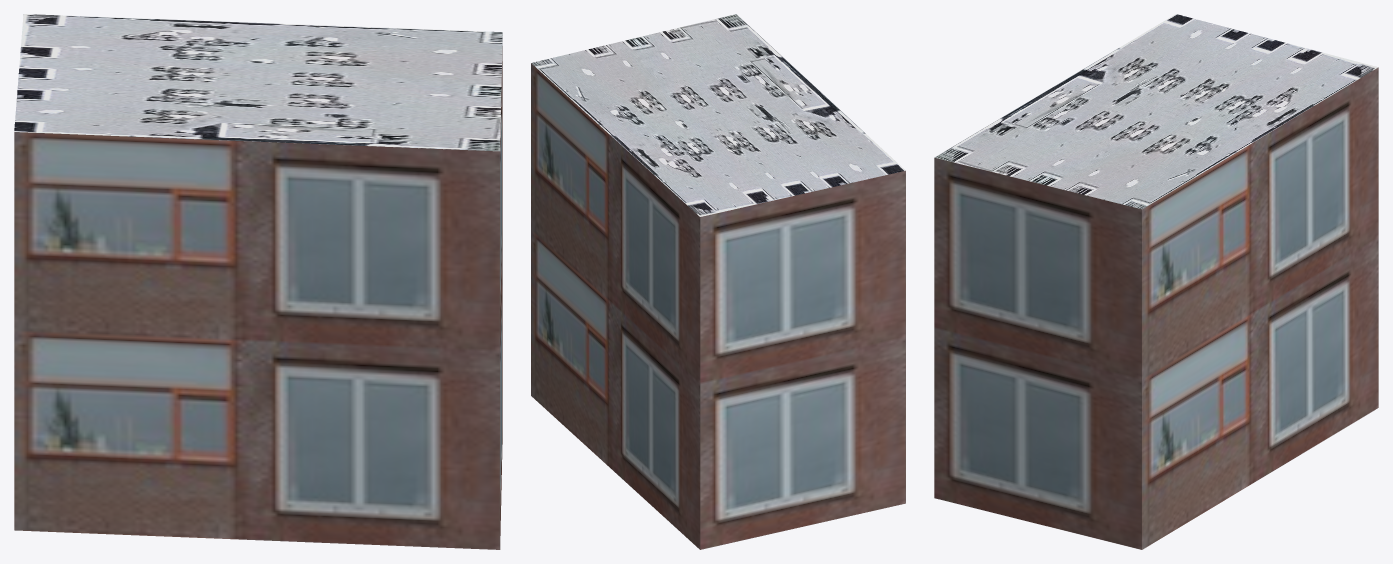
The model's file is ResTex__1047.fbx.
3 views of the same model, side by side, from view 1: azimuth 30°, elevation 25°; view 2: azimuth 150°, elevation 25°; view 3: azimuth 270°, elevation 25° (orthographic). The views are drawn at different scales.
Visible parts, largest first — view 1: CityEngineMaterial_19_m, CityEngineMaterial_8_m; view 2: CityEngineMaterial_19_m, CityEngineMaterial_8_m; view 3: CityEngineMaterial_19_m, CityEngineMaterial_8_m.
Boxes of the visible parts, x1,y1,x2,y2 form: CityEngineMaterial_19_m: (14, 46, 502, 549); CityEngineMaterial_8_m: (14, 14, 502, 151); CityEngineMaterial_19_m: (531, 63, 905, 549); CityEngineMaterial_8_m: (531, 14, 905, 216); CityEngineMaterial_19_m: (934, 67, 1378, 549); CityEngineMaterial_8_m: (935, 14, 1378, 209).
Bounding box in the file's own units: 7.38 × 6 × 7.1.
2 materials, 2 textured.
